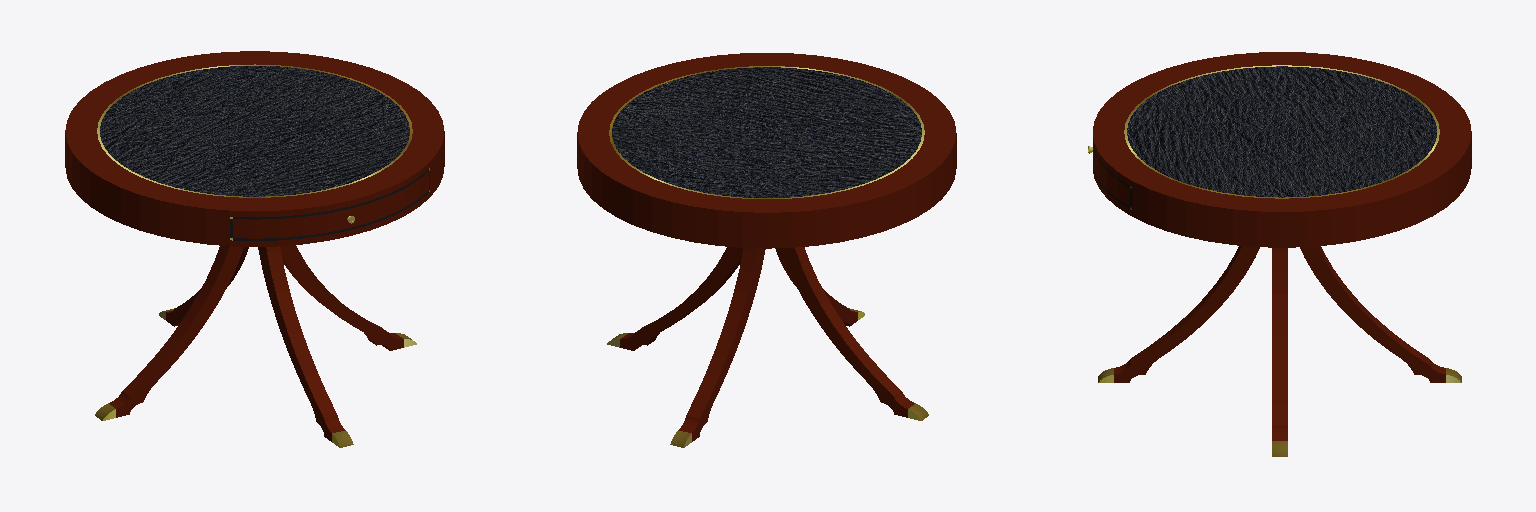
The picture shows the model from 3 angles: view 1: azimuth 30°, elevation 25°; view 2: azimuth 150°, elevation 25°; view 3: azimuth 270°, elevation 25°; orthographic projection.
Visible parts, largest first — view 1: Proj_ChairRoundedBack_Arms-COM-Interior_Furn_TableDrum0203-39786, Proj_ChairRoundedBack_Arms-GRP-39768-Wood_Cherry, Proj_ChairRoundedBack_Arms-GRP-39768-GOLD; view 2: Proj_ChairRoundedBack_Arms-COM-Interior_Furn_TableDrum0203-39786, Proj_ChairRoundedBack_Arms-GRP-39768-Wood_Cherry, Proj_ChairRoundedBack_Arms-GRP-39768-GOLD; view 3: Proj_ChairRoundedBack_Arms-COM-Interior_Furn_TableDrum0203-39786, Proj_ChairRoundedBack_Arms-GRP-39768-Wood_Cherry, Proj_ChairRoundedBack_Arms-GRP-39768-GOLD.
Part boxes in pixels (bbox=[...]): Proj_ChairRoundedBack_Arms-COM-Interior_Furn_TableDrum0203-39786: bbox=[65, 51, 444, 246]; Proj_ChairRoundedBack_Arms-GRP-39768-Wood_Cherry: bbox=[109, 245, 403, 441]; Proj_ChairRoundedBack_Arms-GRP-39768-GOLD: bbox=[95, 308, 416, 447]; Proj_ChairRoundedBack_Arms-COM-Interior_Furn_TableDrum0203-39786: bbox=[577, 53, 956, 248]; Proj_ChairRoundedBack_Arms-GRP-39768-Wood_Cherry: bbox=[620, 247, 914, 441]; Proj_ChairRoundedBack_Arms-GRP-39768-GOLD: bbox=[607, 308, 928, 447]; Proj_ChairRoundedBack_Arms-COM-Interior_Furn_TableDrum0203-39786: bbox=[1088, 52, 1471, 247]; Proj_ChairRoundedBack_Arms-GRP-39768-Wood_Cherry: bbox=[1114, 246, 1445, 440]; Proj_ChairRoundedBack_Arms-GRP-39768-GOLD: bbox=[1098, 368, 1461, 456].
Bounding box in the file's own units: 0.9144 × 0.6601 × 0.9245.
5 materials, 2 textured.